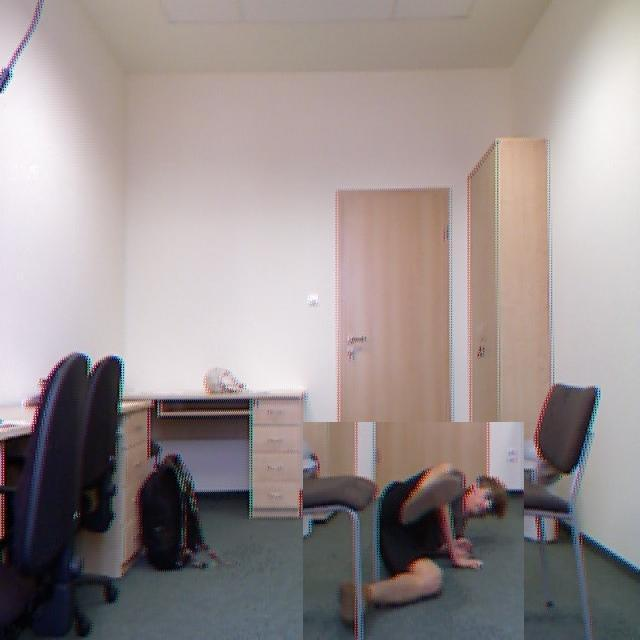Fall: (291, 439, 524, 633)
